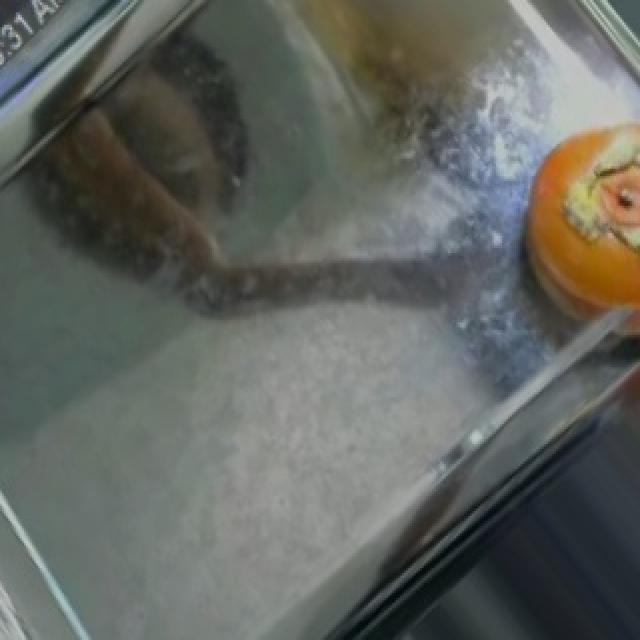Fruit: (500, 107, 640, 362)
